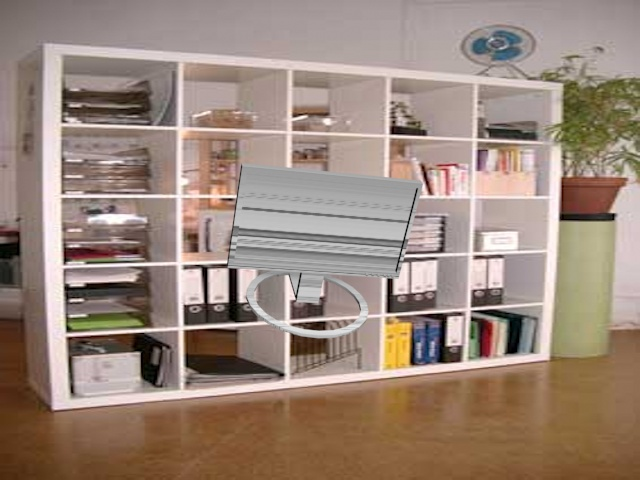monitor: (225, 161, 424, 344)
